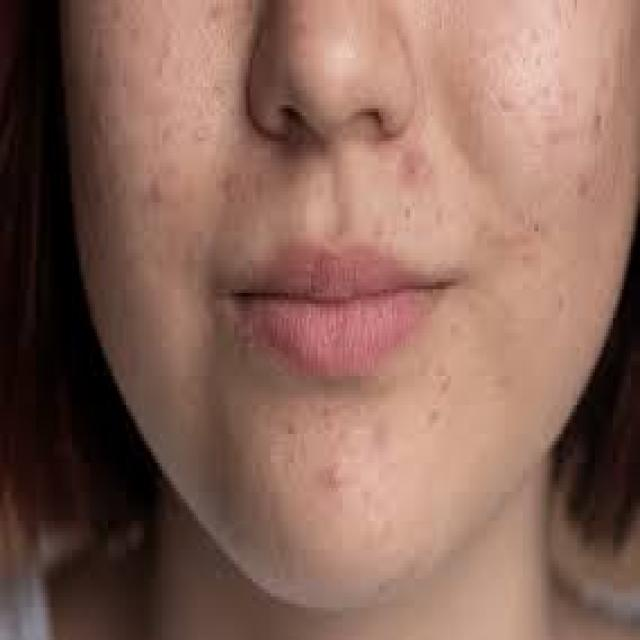Acne: (542, 105, 616, 242), (124, 137, 211, 236), (373, 149, 482, 227), (300, 454, 360, 528)
